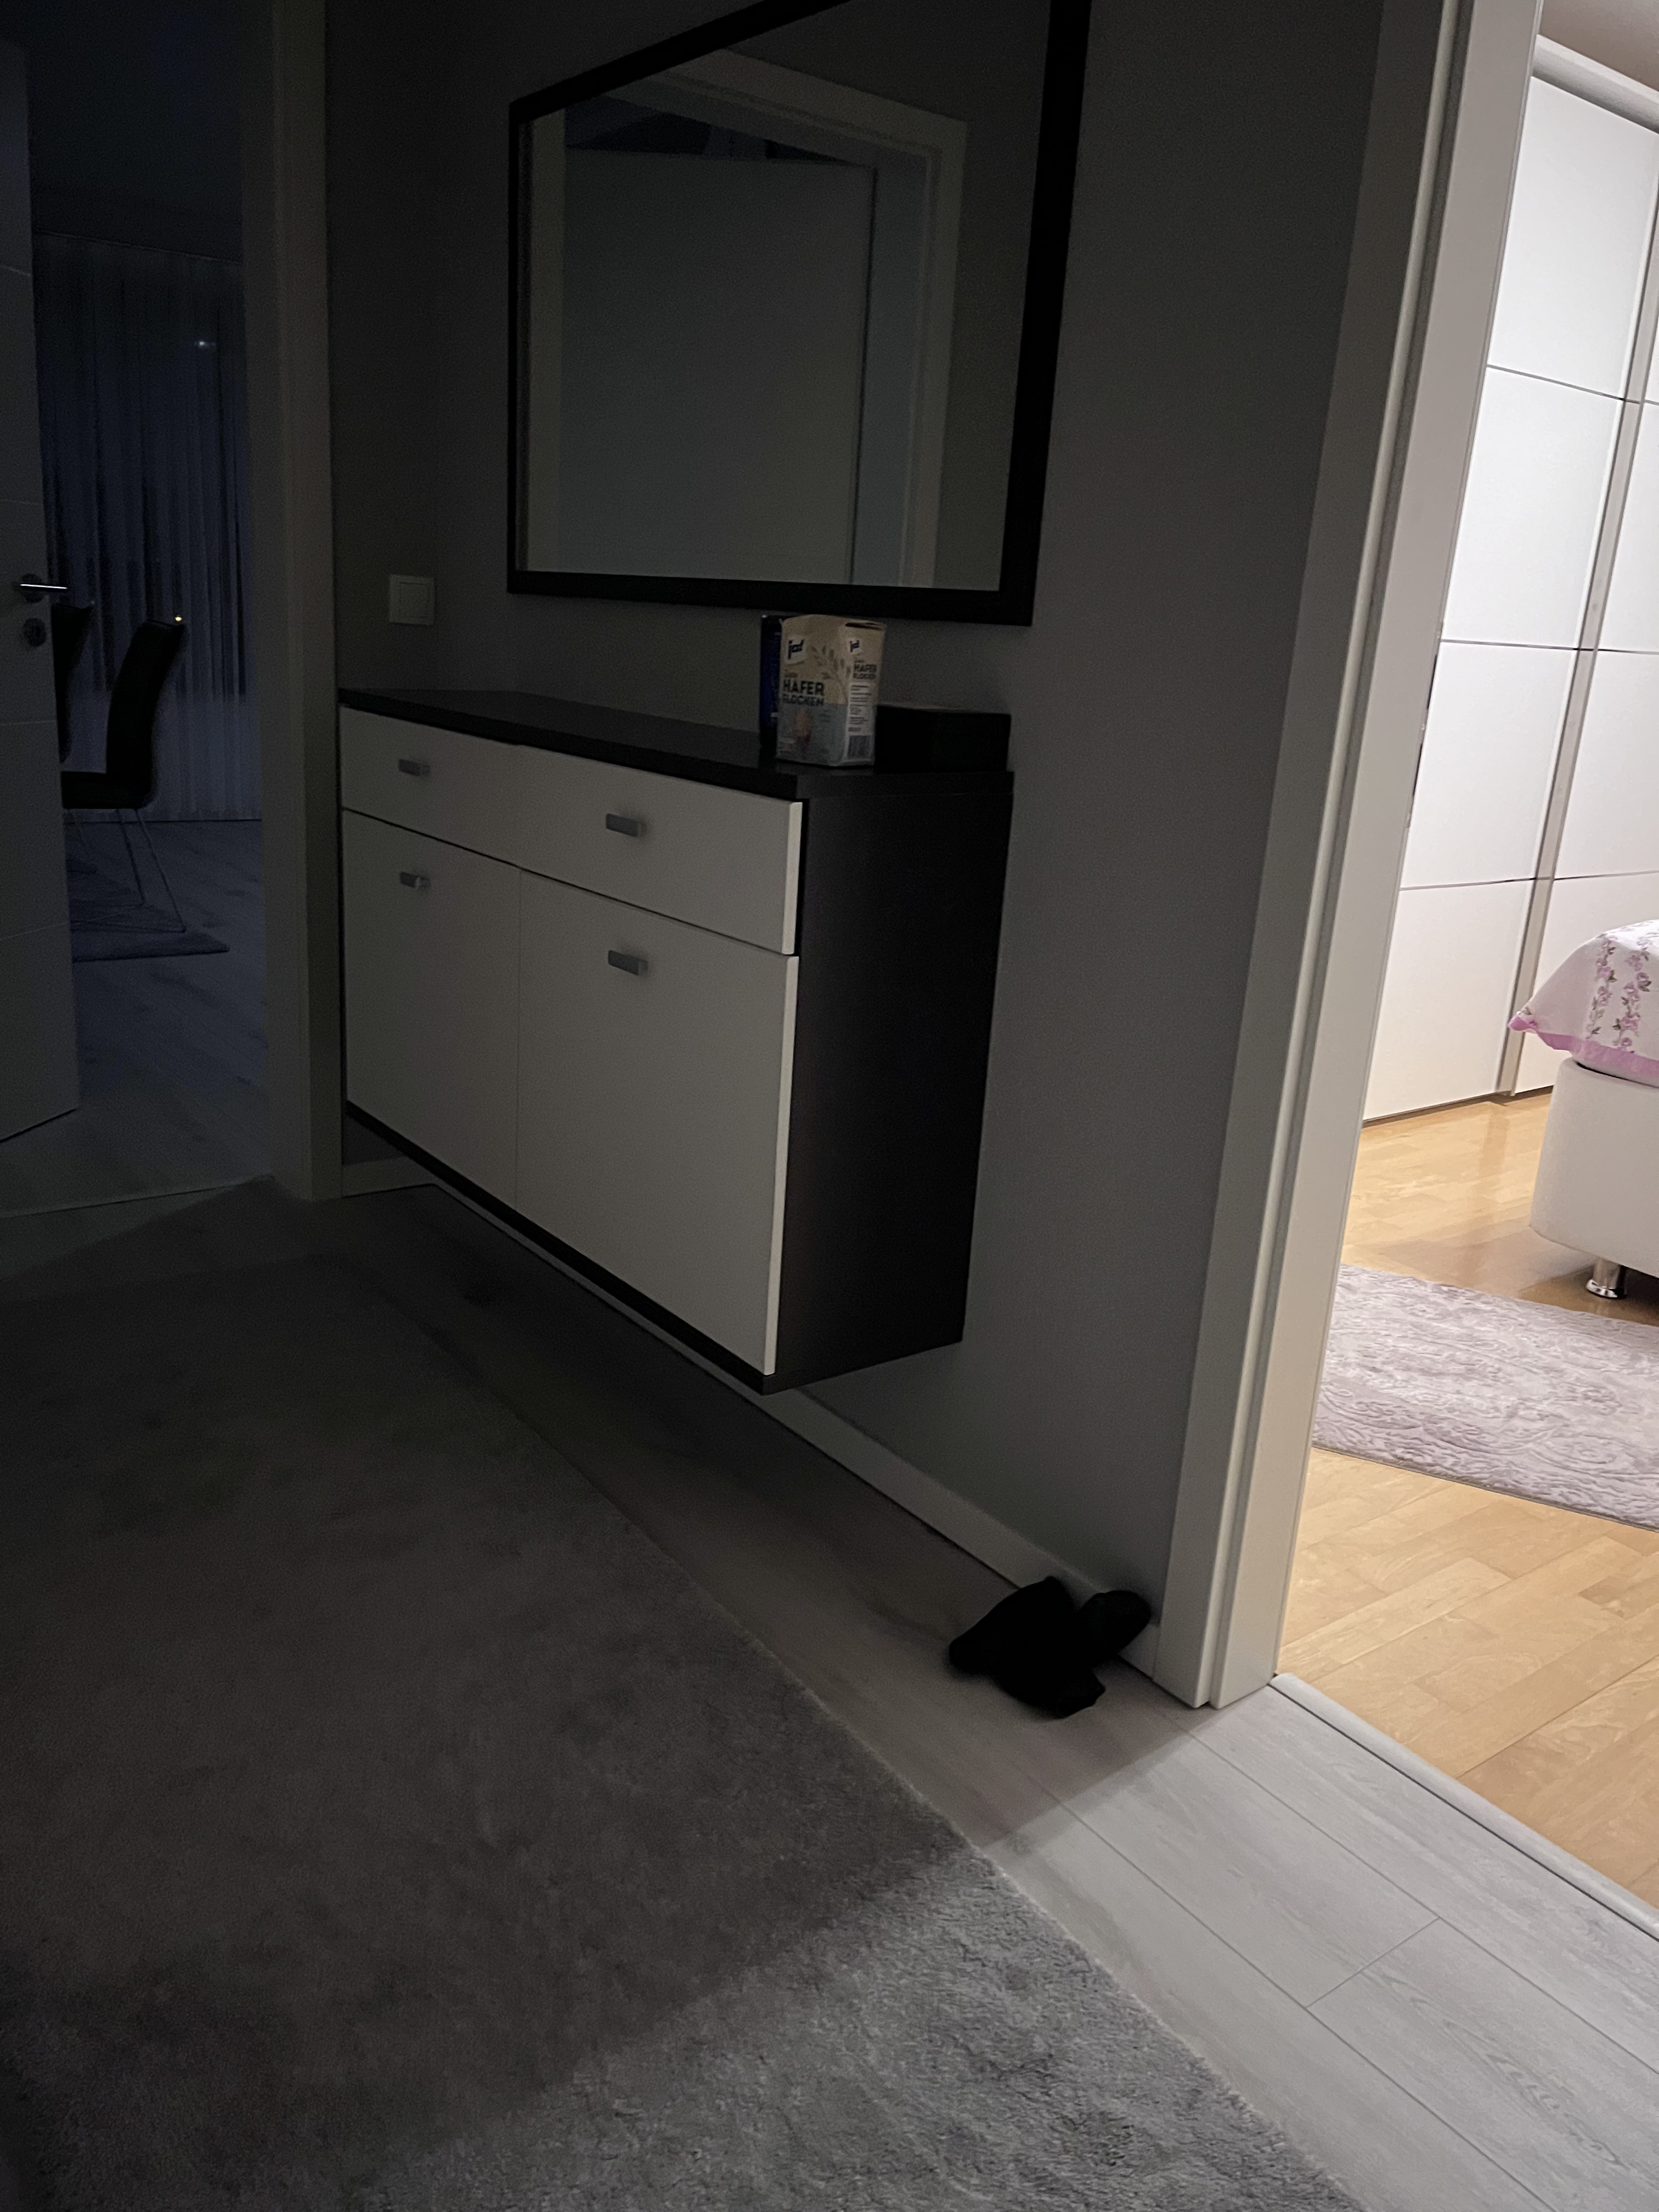haferflocken_ja: (774, 608, 889, 772)
